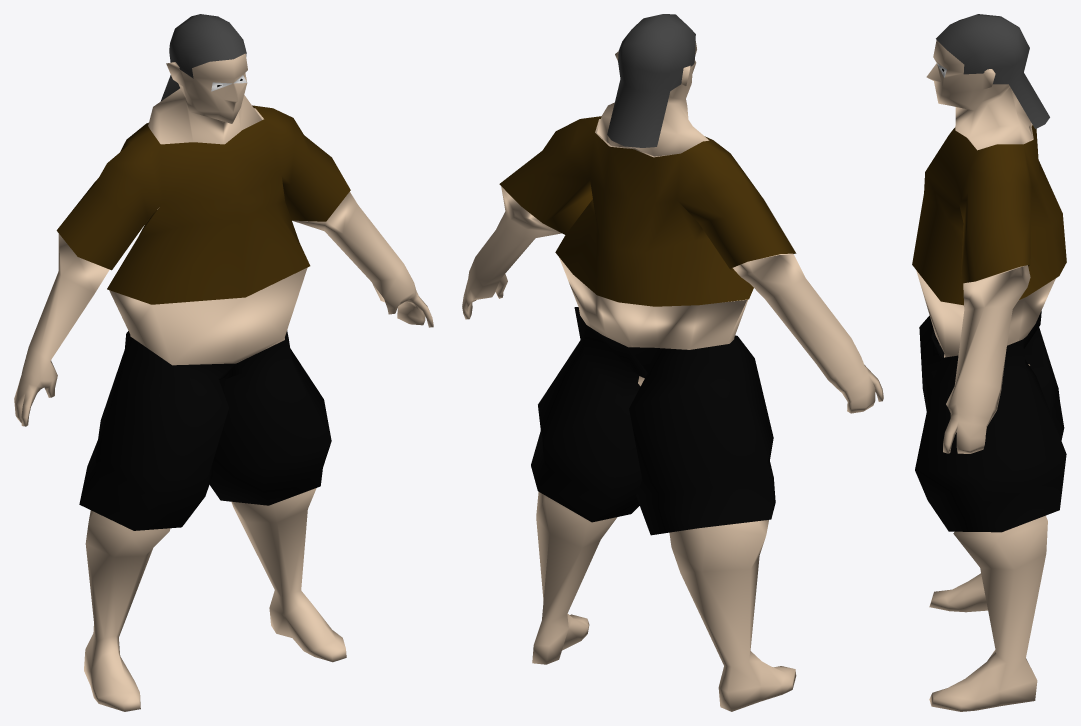
The model's file is BigBoiBoss.fbx.
3 views of the same model, side by side, from view 1: azimuth 30°, elevation 25°; view 2: azimuth 150°, elevation 25°; view 3: azimuth 270°, elevation 25° (orthographic). The views are drawn at different scales.
Visible parts, largest first — view 1: Body; view 2: Body; view 3: Body.
Boxes of the visible parts, x1,y1,x2,y2 form: Body: (14,14,433,711); Body: (462,14,883,711); Body: (912,14,1066,711).
Size of the model in its own units: 233 by 351 by 77.23.
